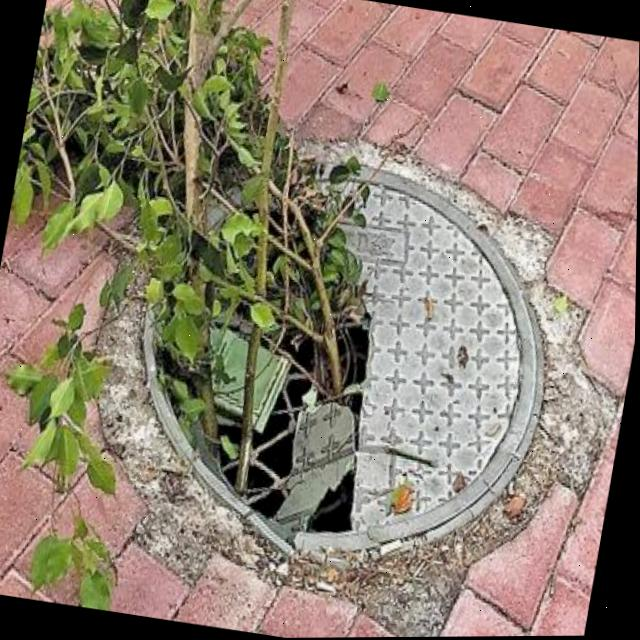manhole: (96, 116, 597, 608)
